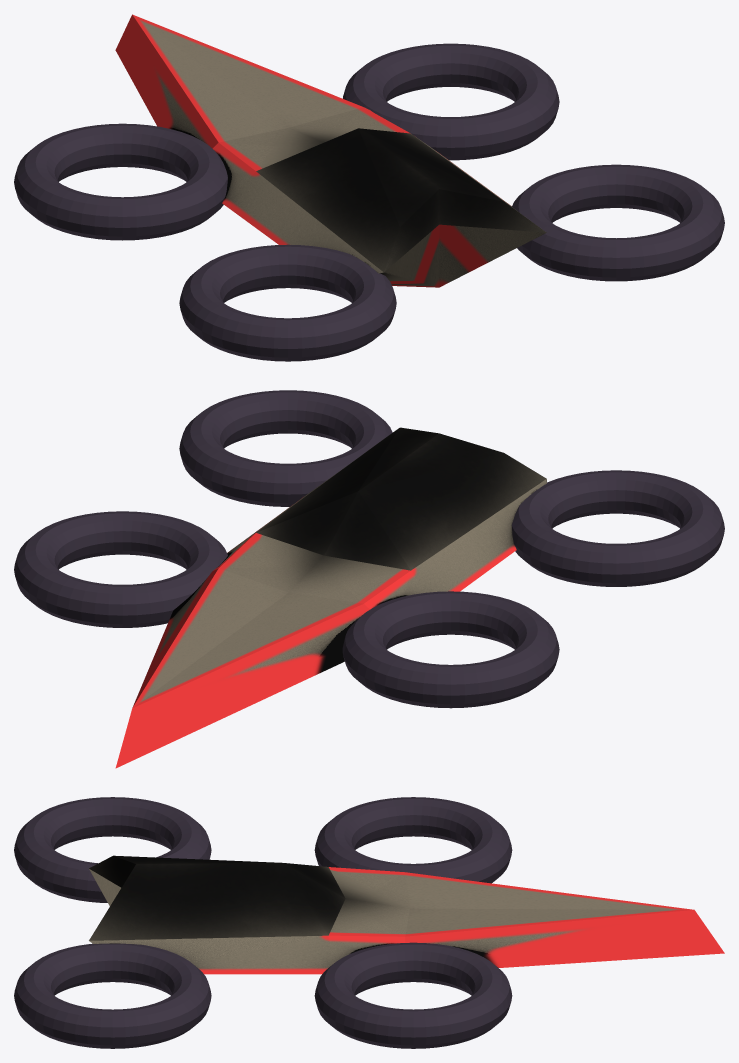
Rendered from DroneV1.obj.
3 renders of one model, top to bottom at view 1: azimuth 30°, elevation 25°; view 2: azimuth 150°, elevation 25°; view 3: azimuth 270°, elevation 25°, orthographic. The views are drawn at different scales.
Visible parts, largest first — view 1: Cube, Cube.002, Cube.001; view 2: Cube, Cube.001, Cube.002; view 3: Cube, Cube.001, Cube.002.
Part boxes in pixels (x1=…): Cube: x1=115, y1=14, x2=546, y2=287; Cube.002: x1=179, y1=164, x2=724, y2=361; Cube.001: x1=14, y1=43, x2=559, y2=240; Cube: x1=115, y1=427, x2=546, y2=768; Cube.001: x1=14, y1=511, x2=559, y2=708; Cube.002: x1=179, y1=390, x2=724, y2=586; Cube: x1=89, y1=855, x2=724, y2=974; Cube.001: x1=314, y1=797, x2=512, y2=1048; Cube.002: x1=14, y1=797, x2=211, y2=1048.
Size of the model in its own units: 5.5 by 1.02 by 7.21.
